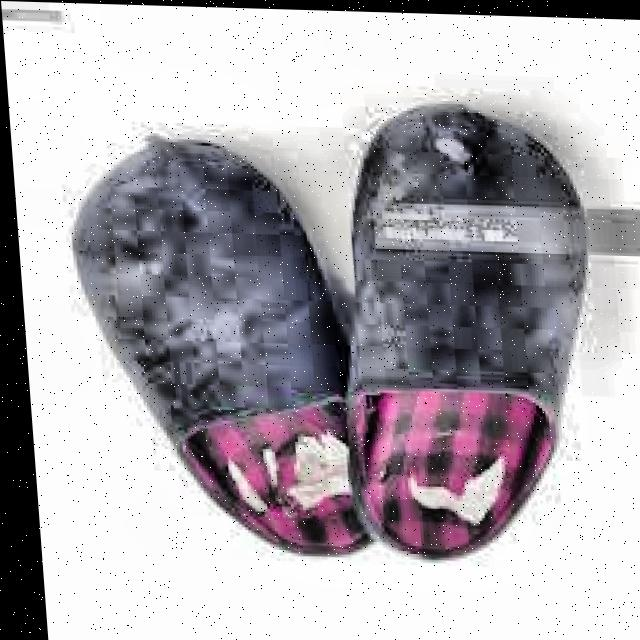shoes: (43, 81, 640, 587)
